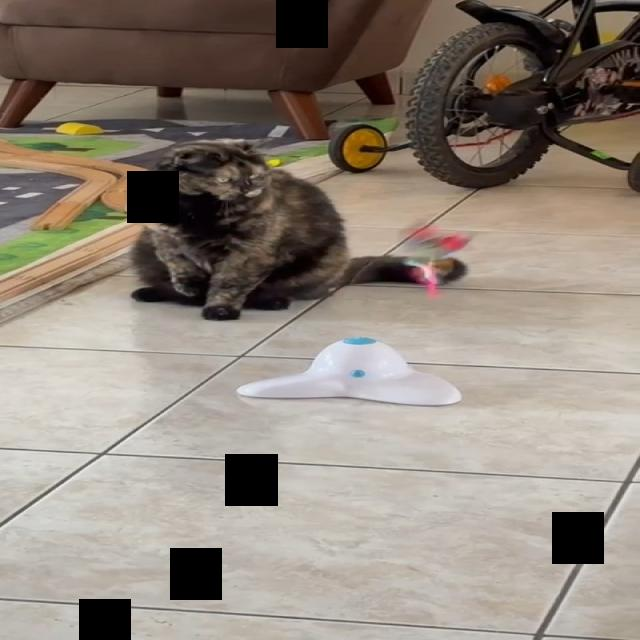authorized: (125, 137, 468, 320)
